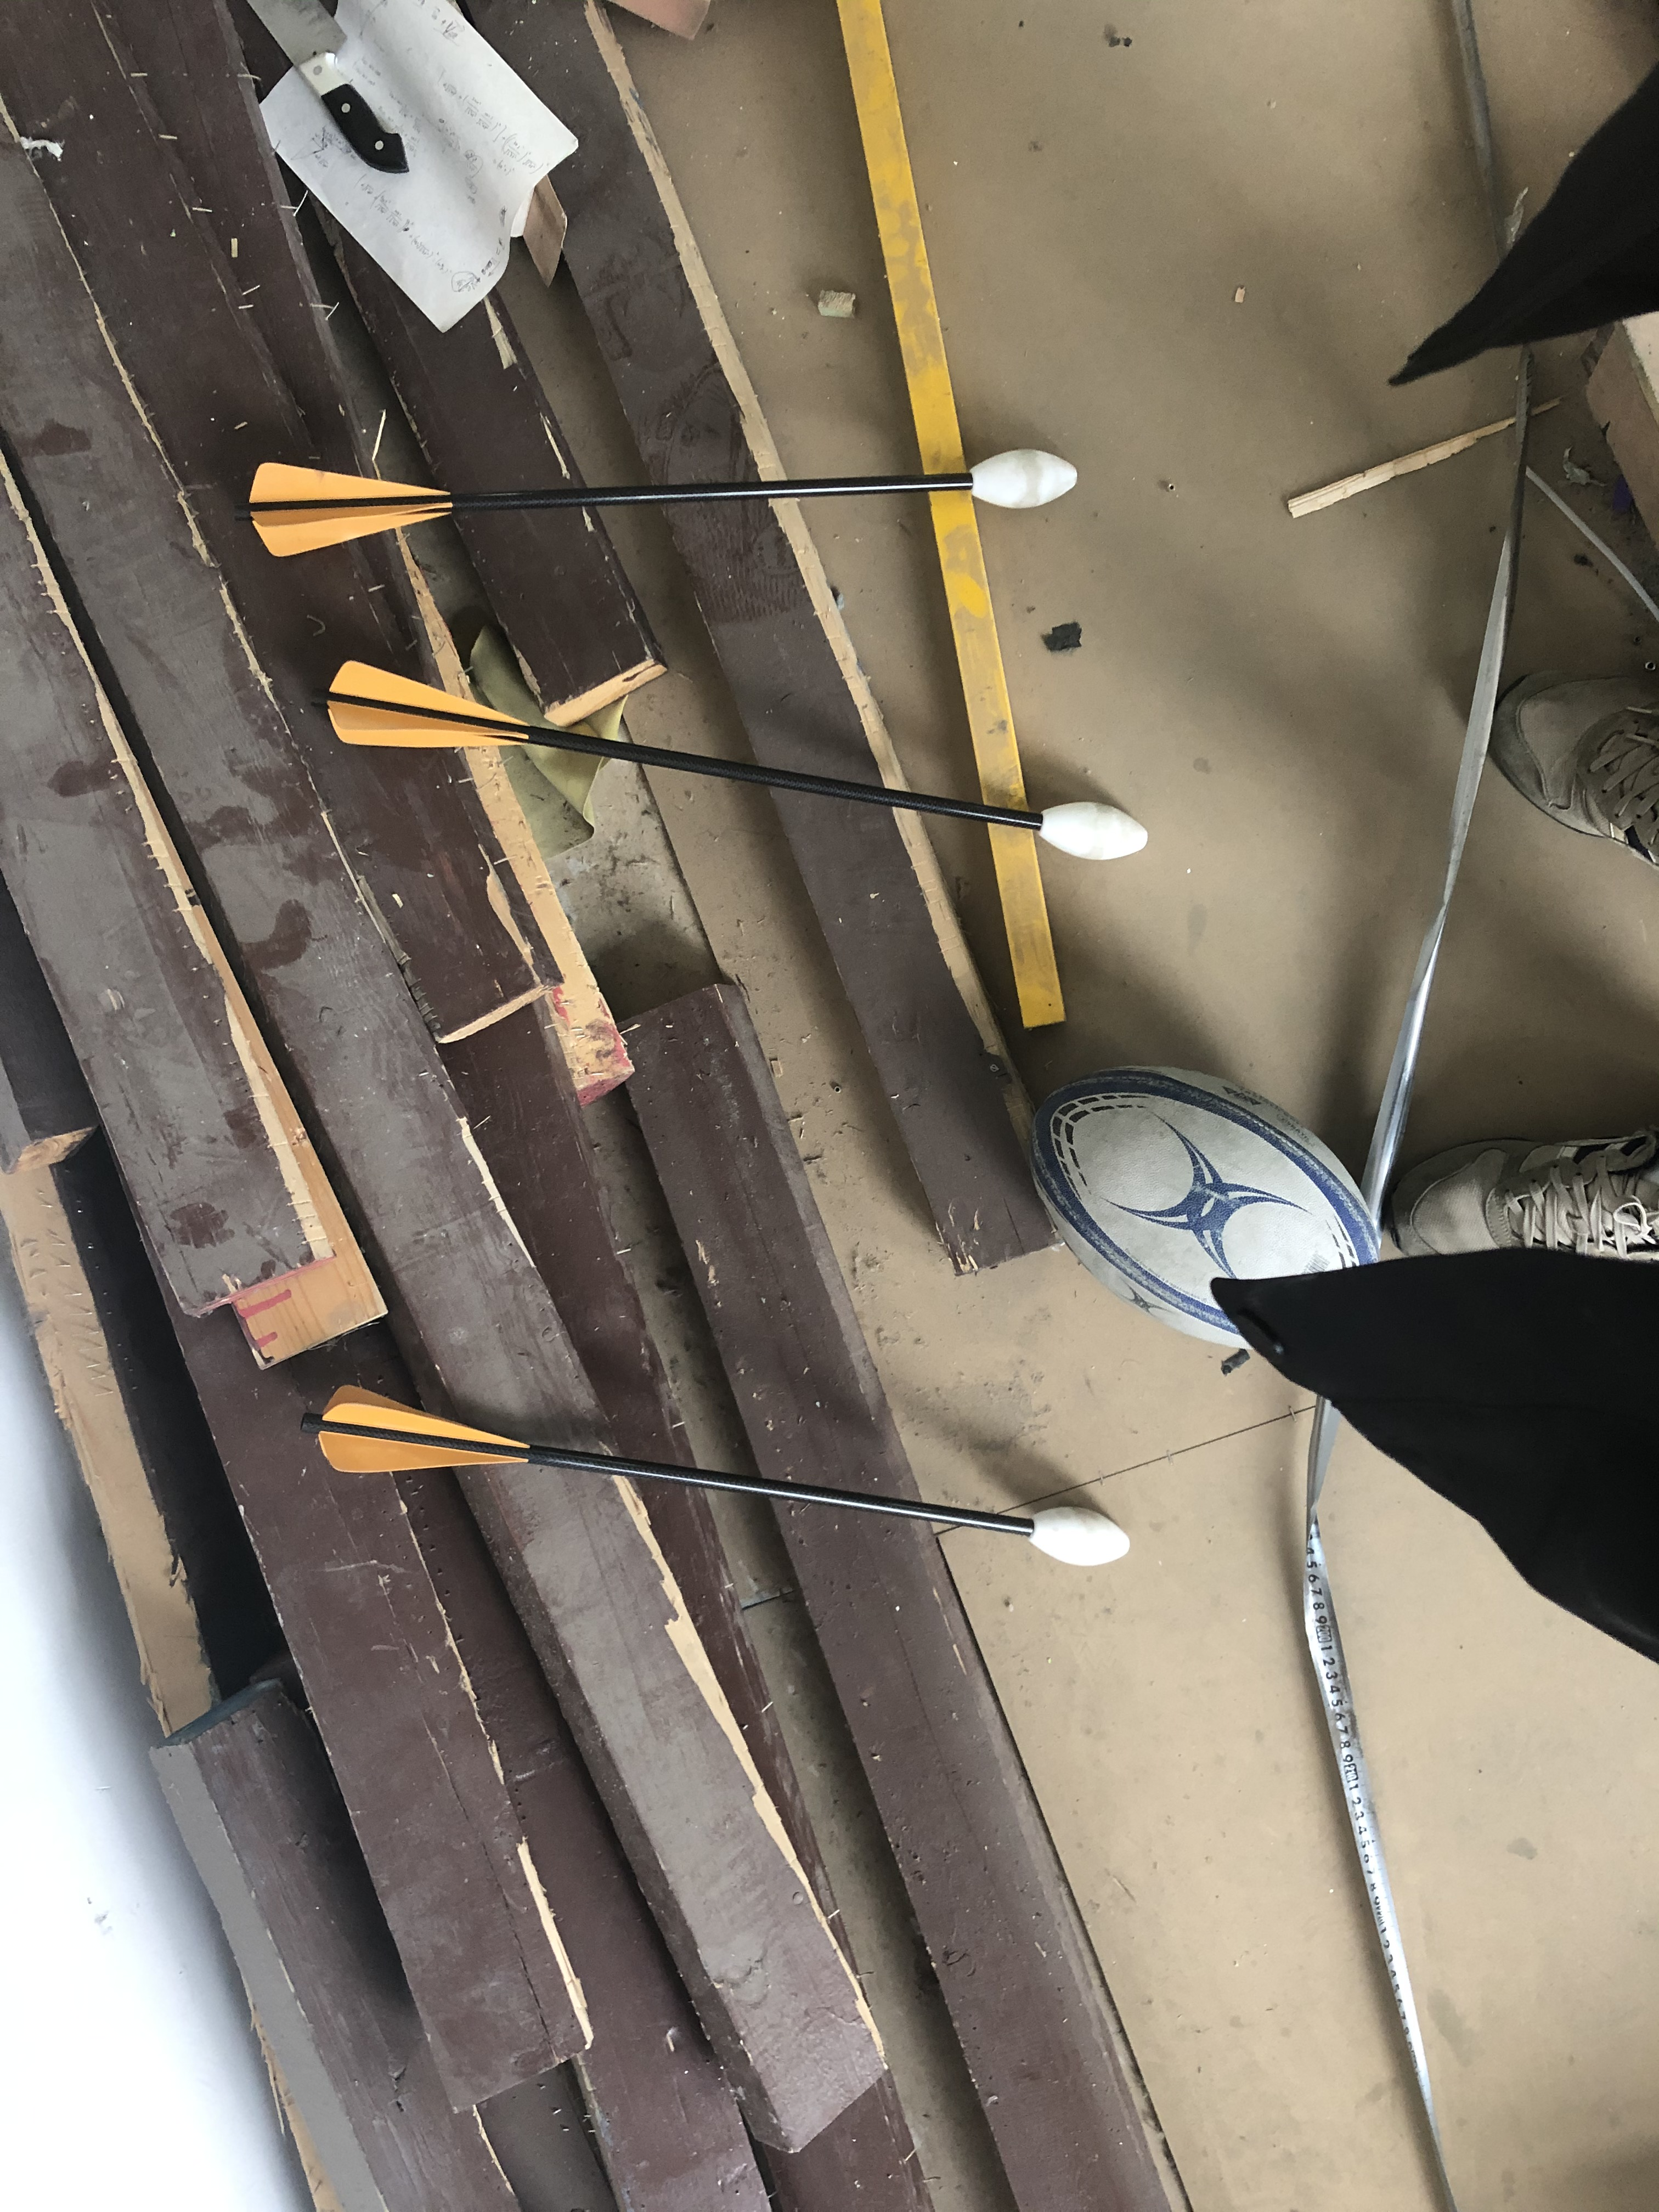arrow: (322, 648, 1154, 867), (301, 1366, 1131, 1566), (246, 444, 1079, 564)
arrowFront: (1026, 798, 1157, 864), (960, 444, 1080, 514), (1021, 1498, 1131, 1566)
